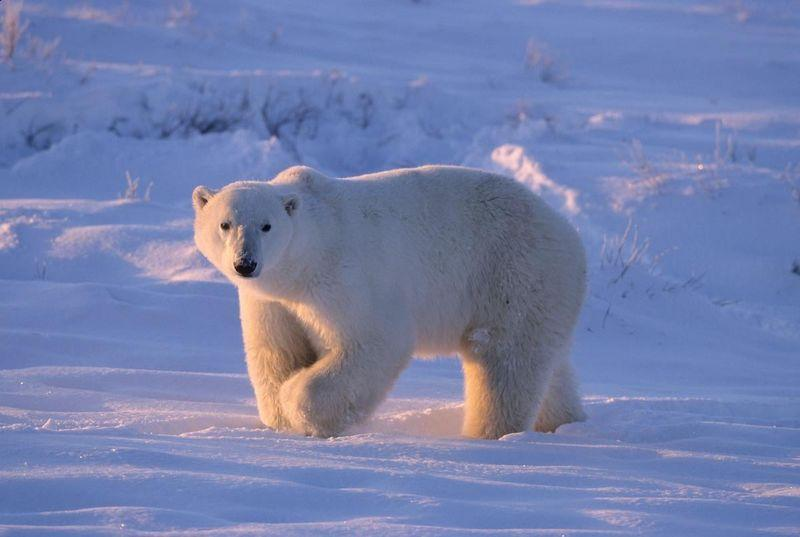goalkeeper: (194, 166, 584, 437)
